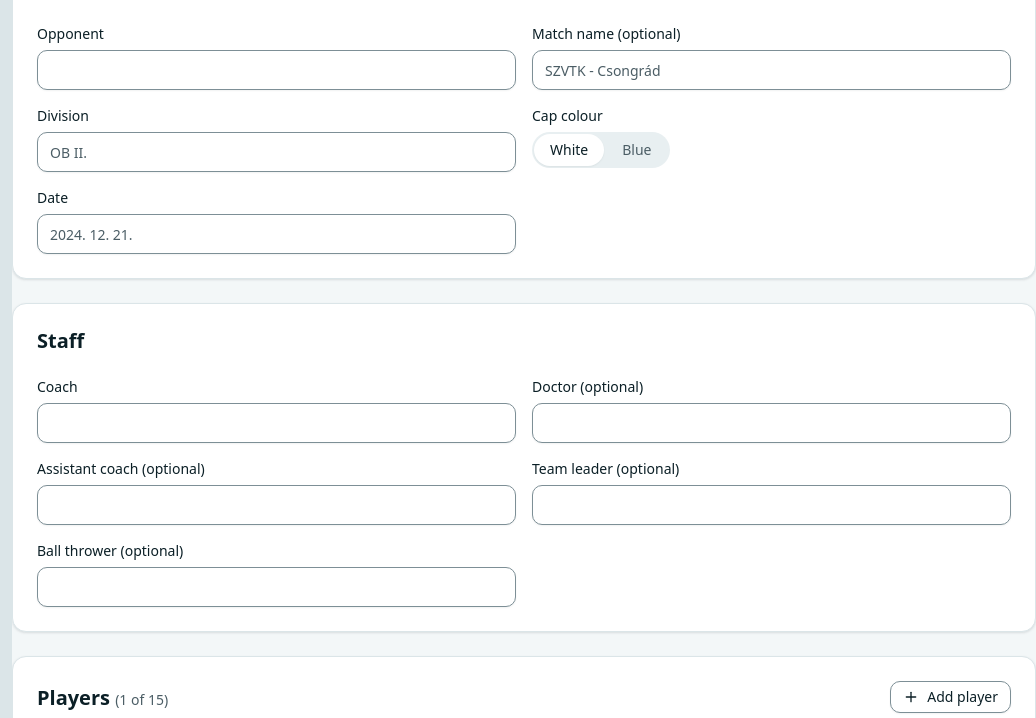
Scenario: LineupCreator save › shows only the clicked download as busy while it runs
This screenshot has width=1036, height=718.
In the field labelled "Opponent": (276, 70) [37,50,516,90], type "Csongrád"
In the field labelled "Division": (276, 152) [37,132,516,172], type "OB I."
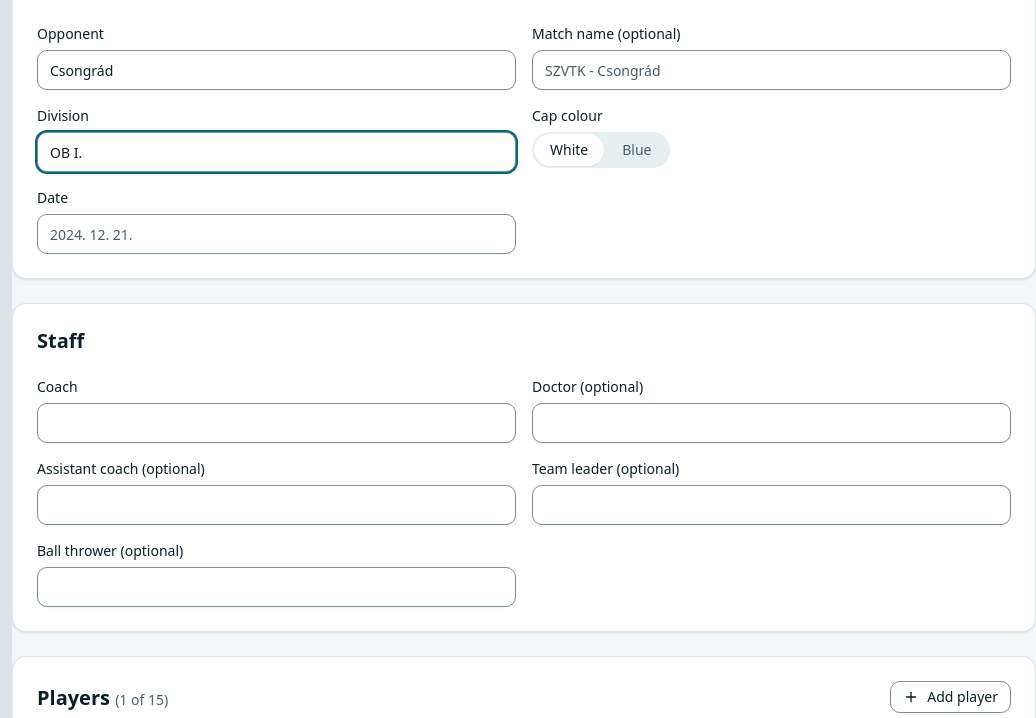
In the field labelled "Date": (276, 234) [37,214,516,254], type "2026. 11. 1."
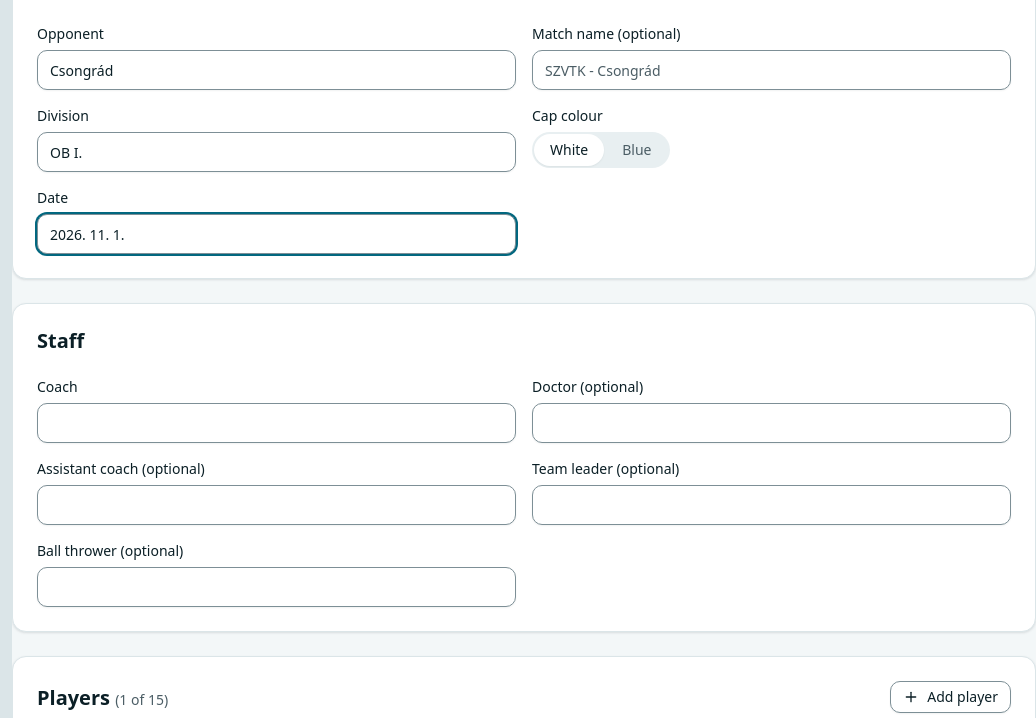
In the field labelled "Coach": (276, 423) [37,403,516,443], type "Kovács Béla"
(page scrolled)
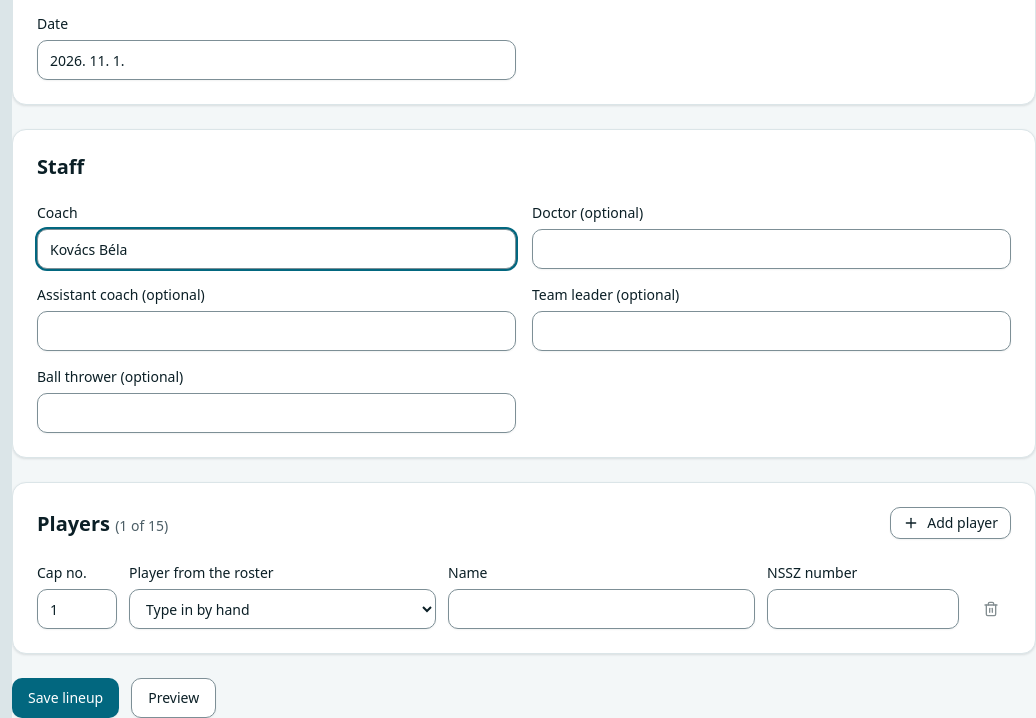
Select "Nagy Bence" in the dropdown labelled "Player from the roster": (282, 609) [129,589,436,629]
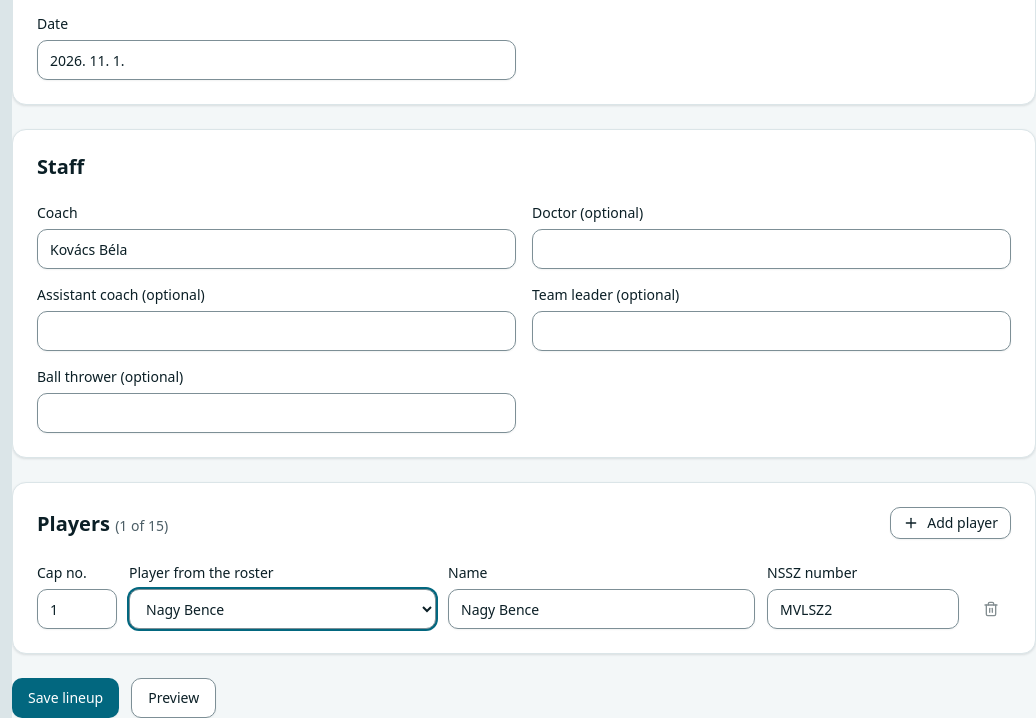
Click the button "Save lineup": (66, 698) [12,678,119,717]
(page scrolled)
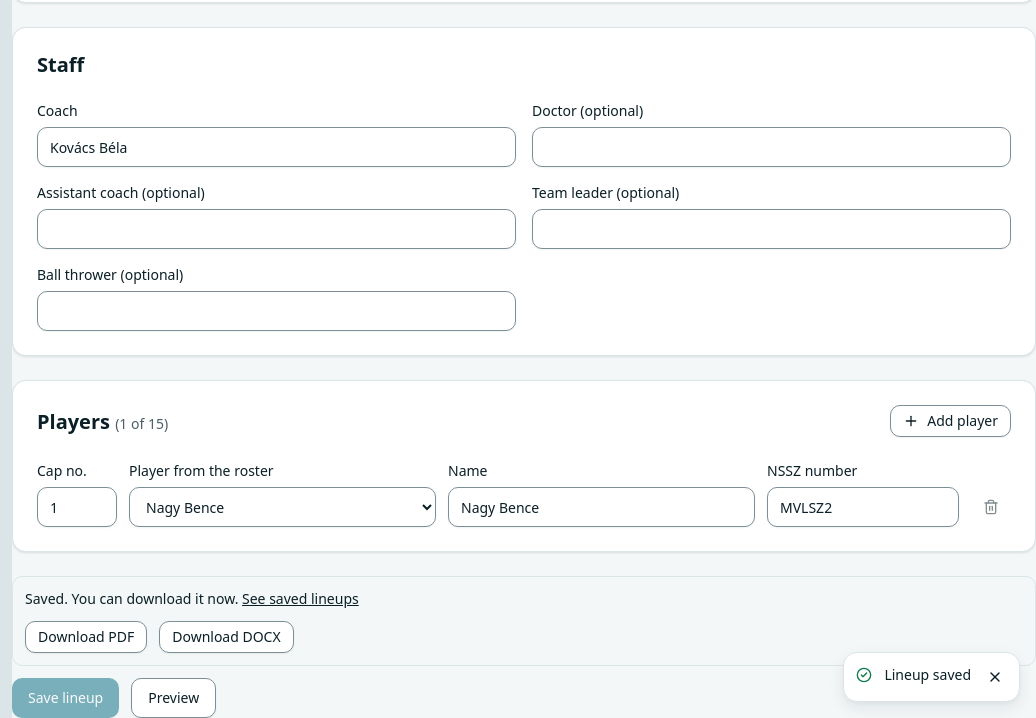
Click the button "Download PDF": (86, 637) [25,621,147,653]
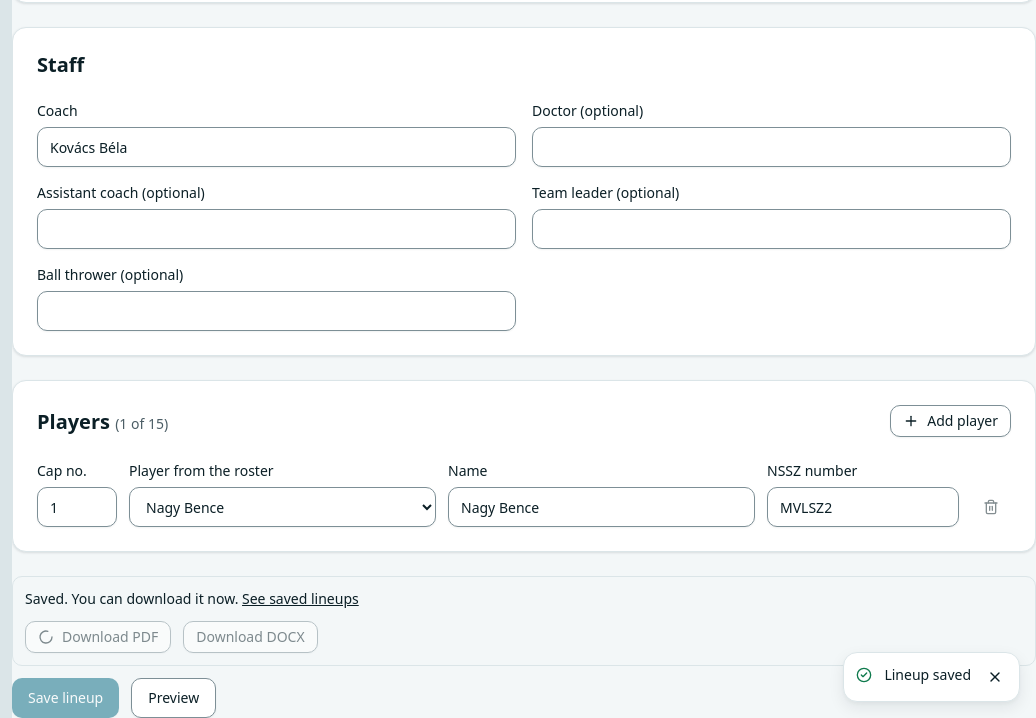
Expected: the button "Download DOCX" is disabled, [183,621,318,653]
